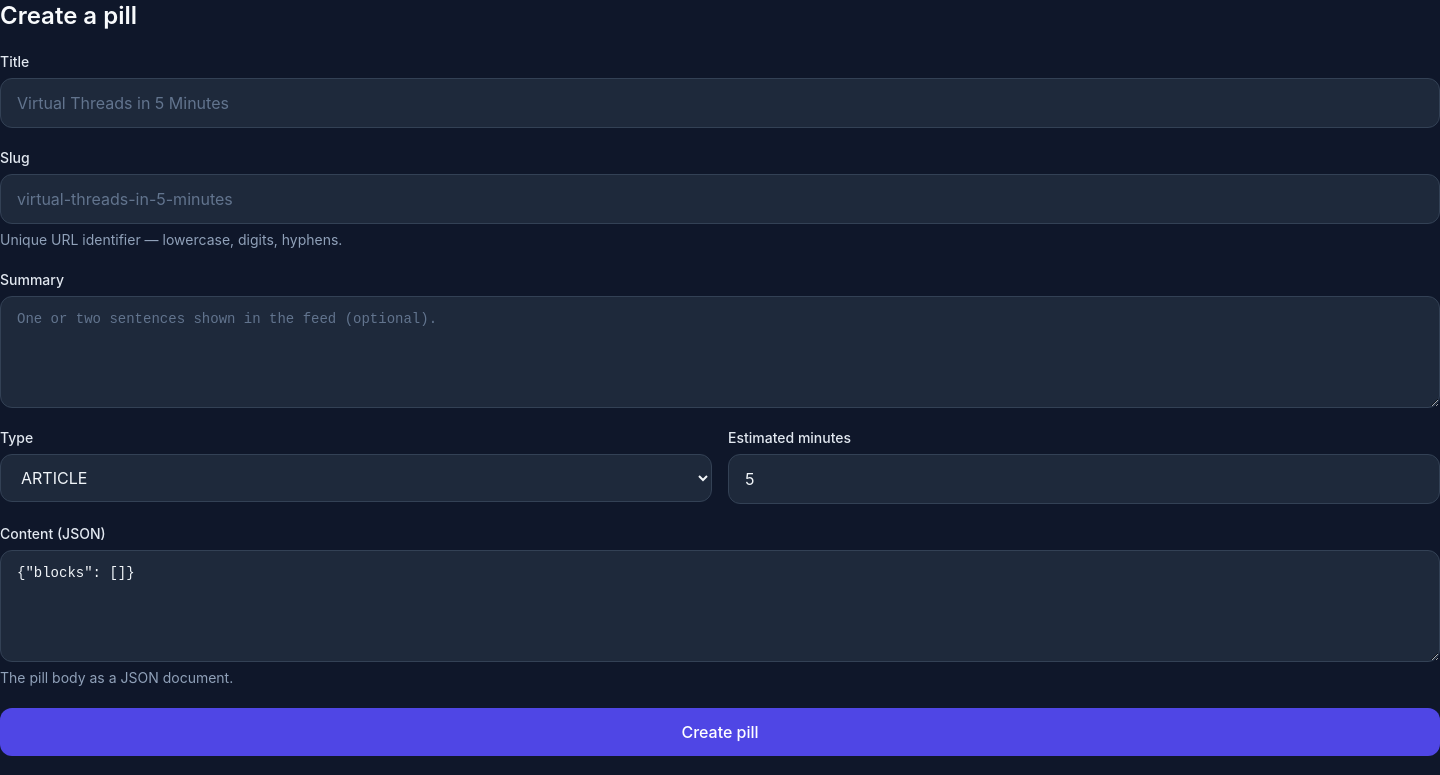
Test: CreatePillPage › shows a generic banner for unexpected non-API failures
Type "Sealed Interfaces 101" into the field labelled "Title" at (720, 103), box 0,78 -> 1439,128
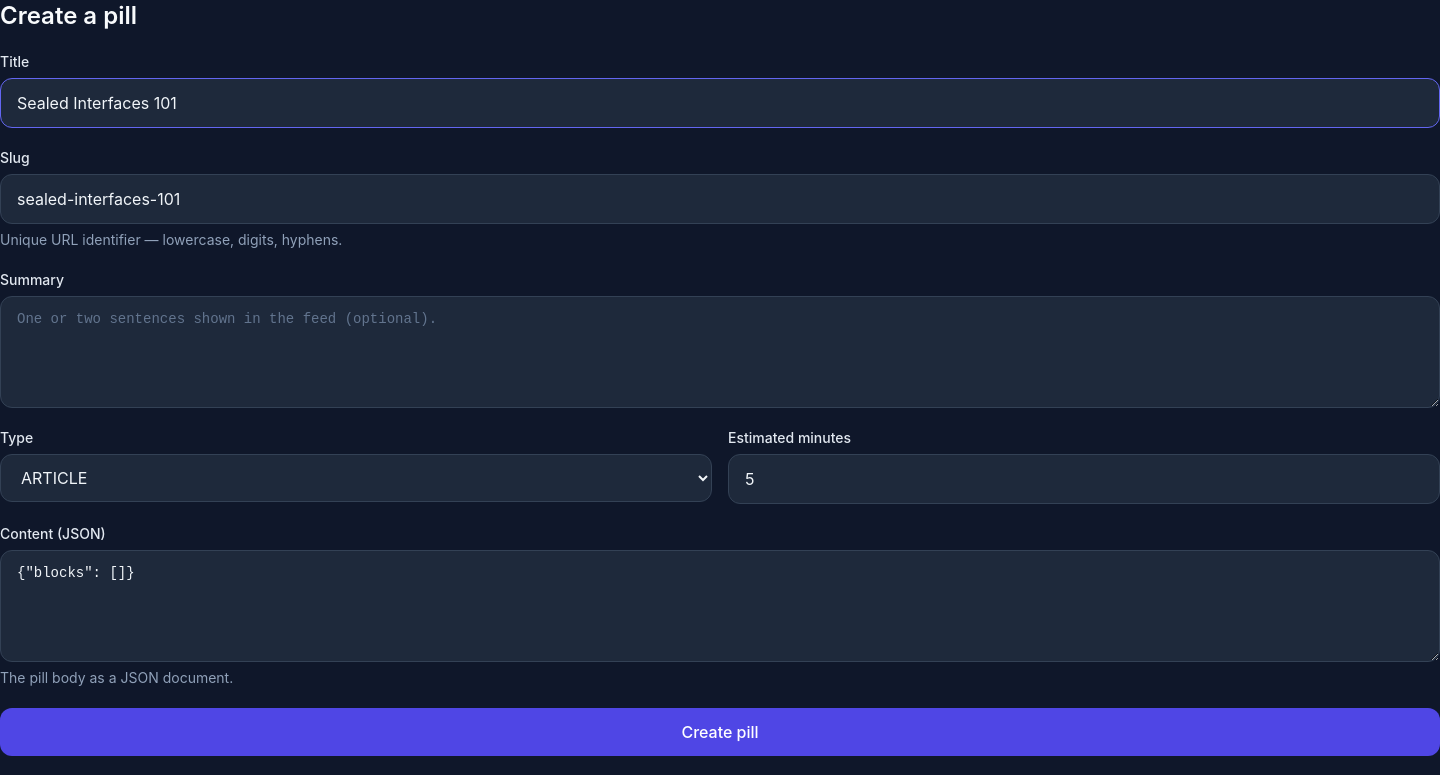
Replace the text in the number field labelled "Estimated minutes" with "4" at (1084, 479), box 728,454 -> 1439,504
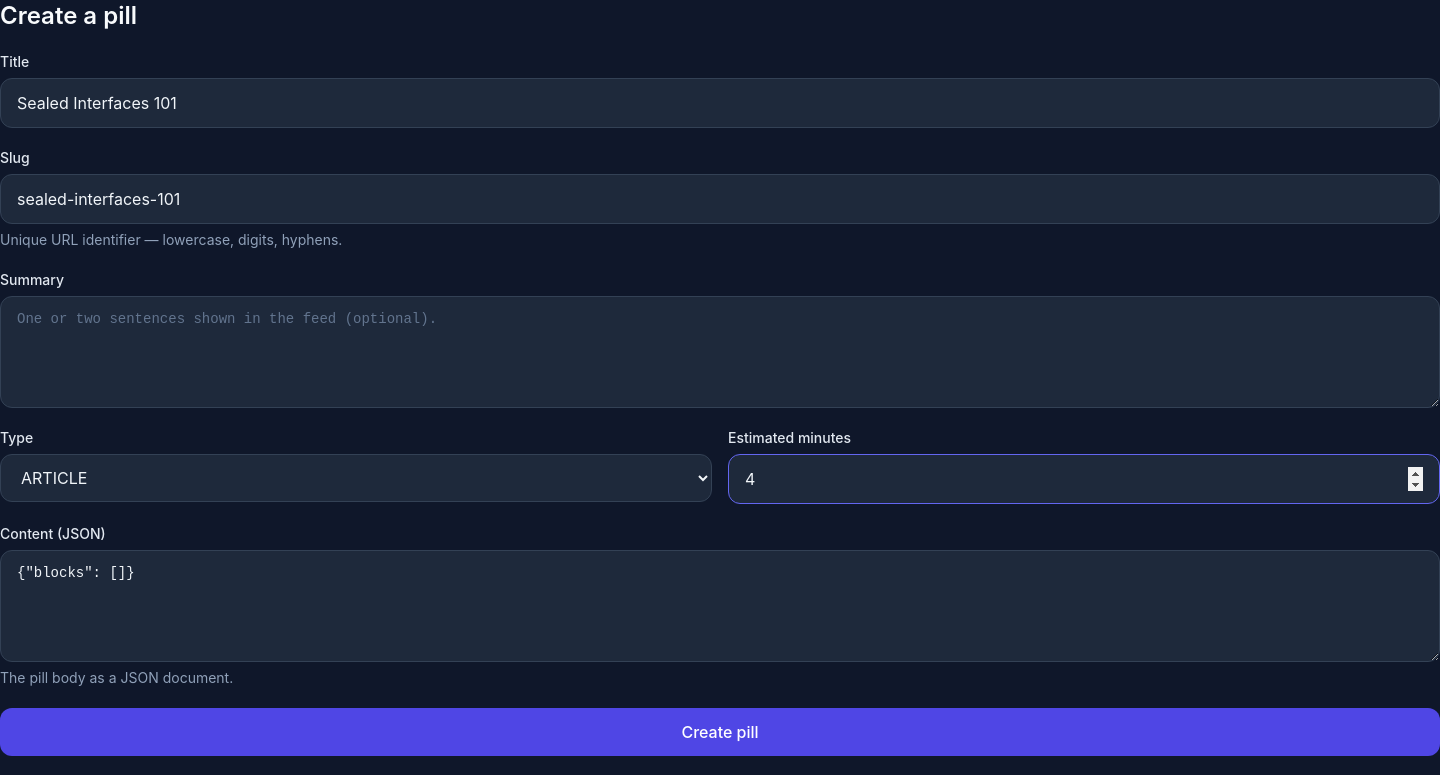
Select "FLASHCARD" in the dropdown labelled "Type" at (356, 478), box 0,454 -> 712,502
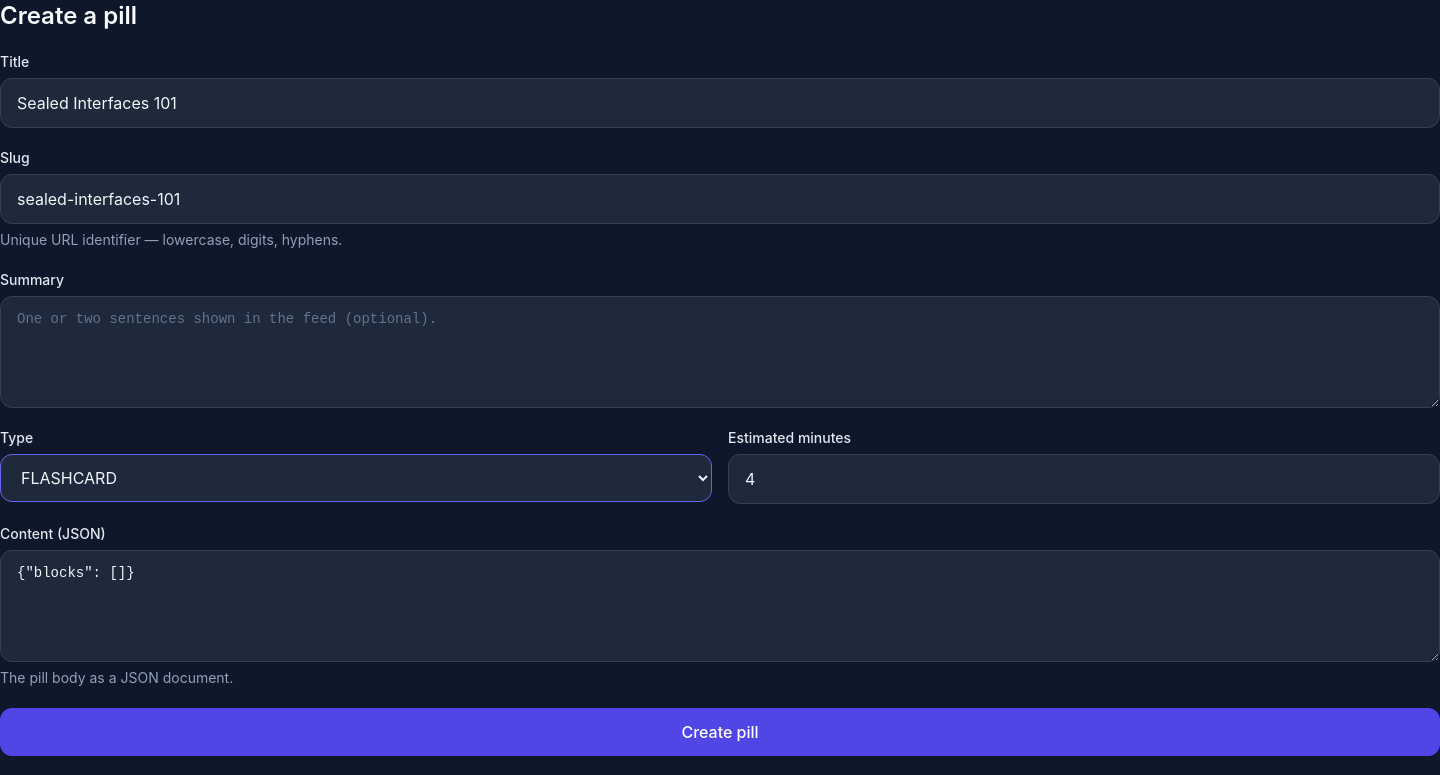
Type "Closed hierarchies." into the text box labelled "Summary" at (720, 352), box 0,296 -> 1439,408
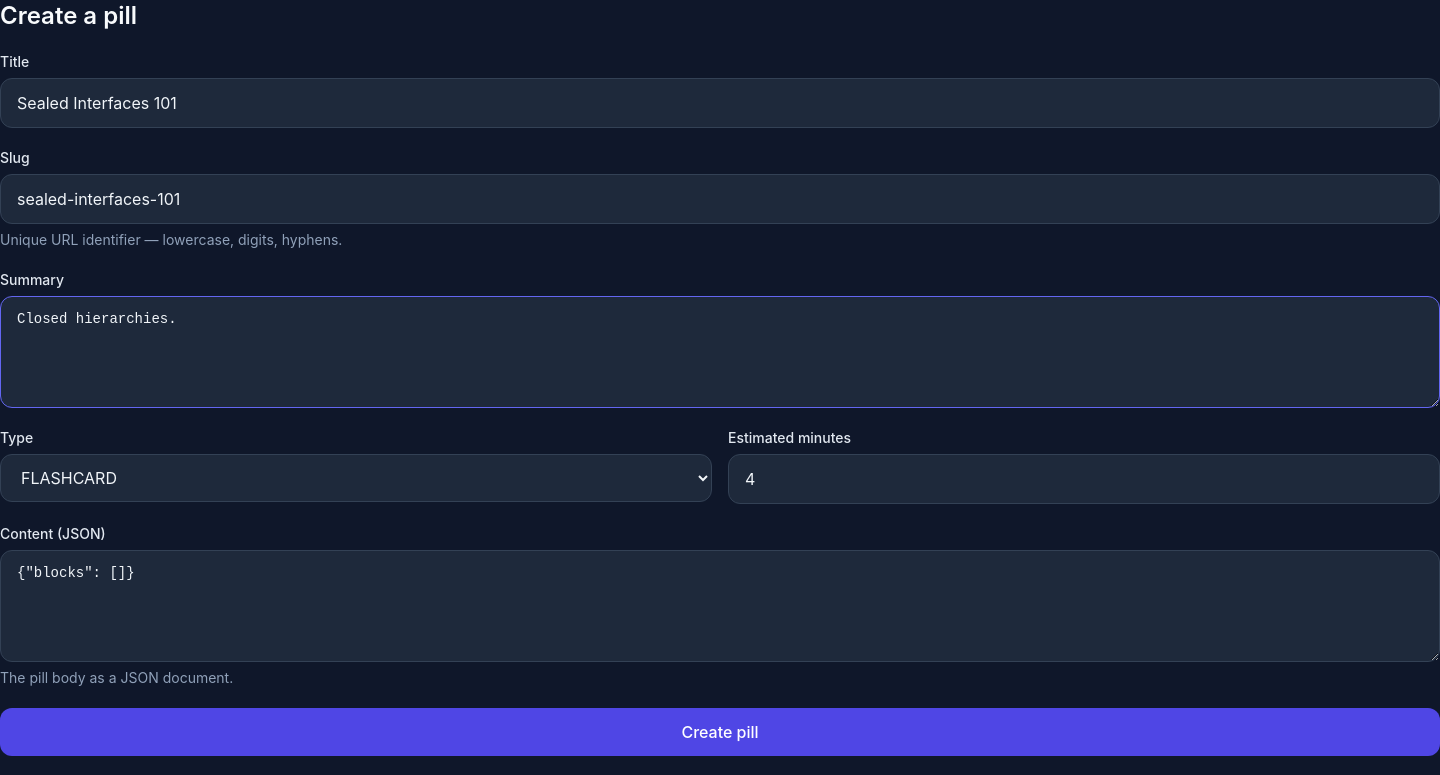
Click the button "Create pill" at (720, 732), box 0,708 -> 1439,756
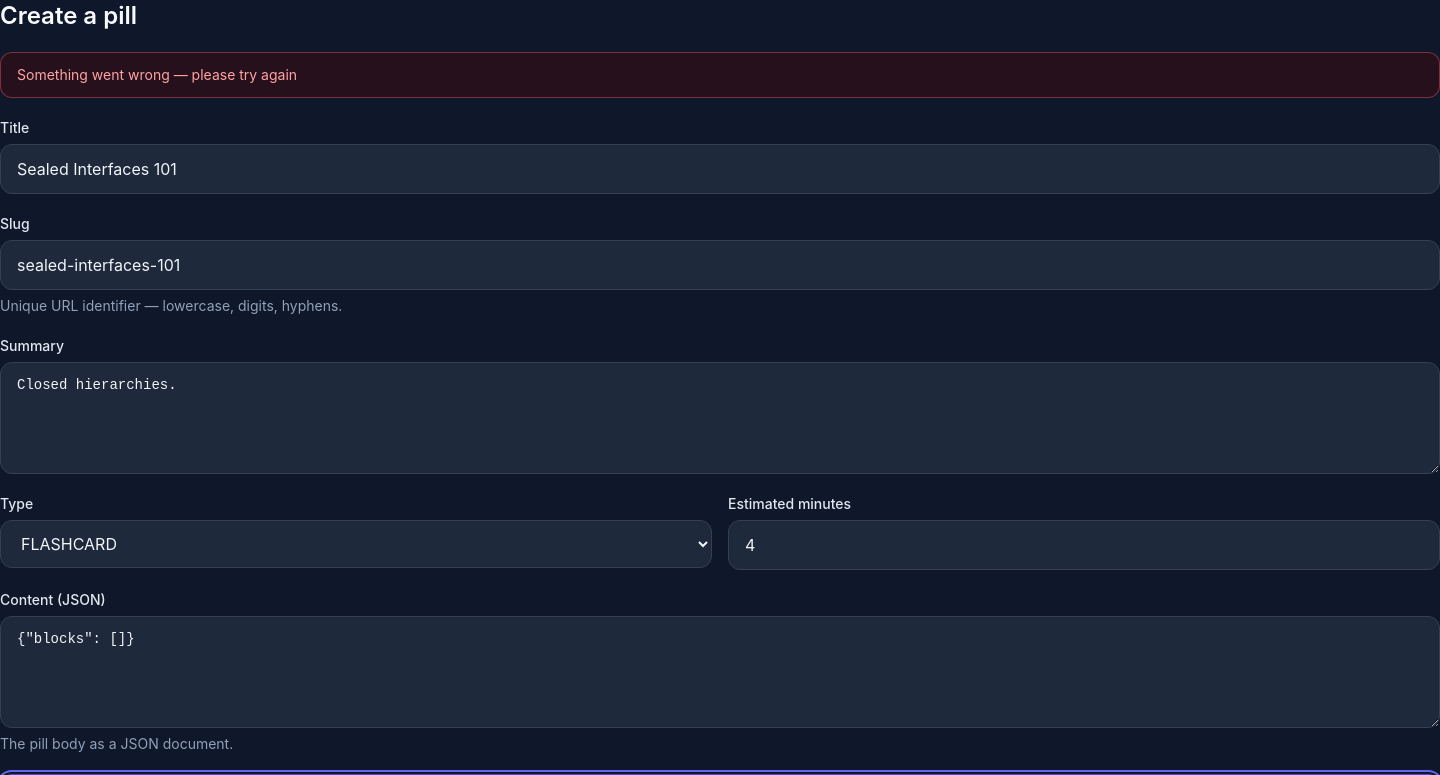
Result: the message shows "please try again" at 17,66 -> 297,83
